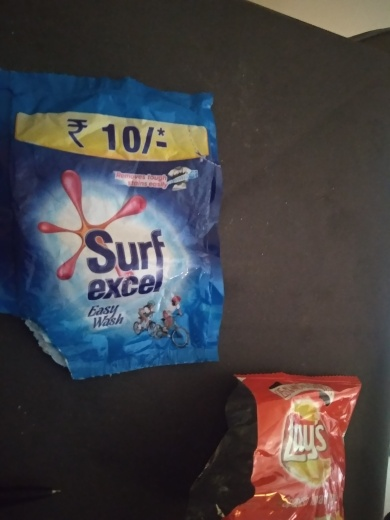lays: (206, 366, 369, 520)
surf: (1, 54, 235, 374)
